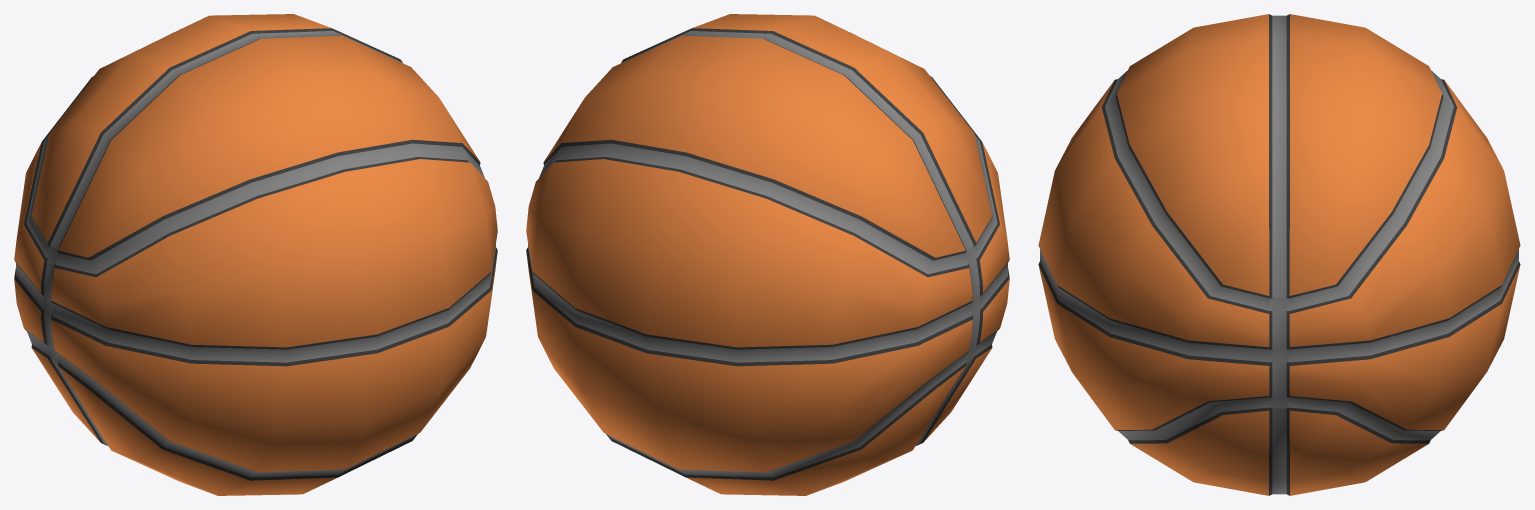
The model's file is basketball.fbx.
3 views of the same model, side by side, from view 1: azimuth 30°, elevation 25°; view 2: azimuth 150°, elevation 25°; view 3: azimuth 270°, elevation 25° (orthographic).
Parts seen in each view (by area): view 1: Basketball; view 2: Basketball; view 3: Basketball.
Boxes of the visible parts, bbox=[...] form: Basketball: bbox=[14, 14, 497, 495]; Basketball: bbox=[526, 14, 1009, 495]; Basketball: bbox=[1038, 14, 1520, 495].
Size of the model in its own units: 0.5468 by 0.5478 by 0.5478.
